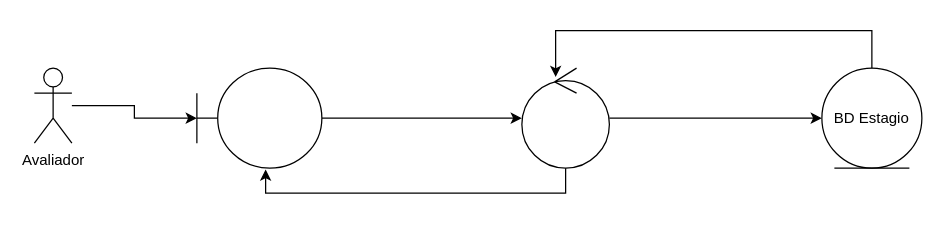
This 944x225 diagram has some shape labels left out. The centre of each missing label's shape, as x and y in pixels:
Controlador Avaliaçao: (x=565, y=117)
Tela Relatorios: (x=259, y=117)
